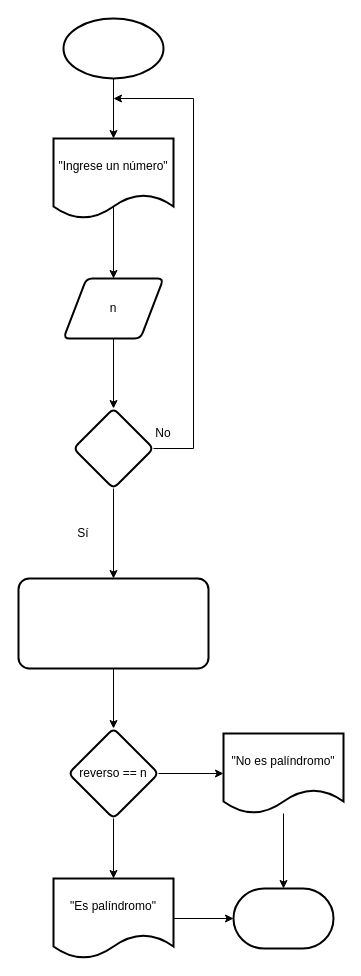
Image size: 361x976. Some labels were removed from this diagram. Each missing label, with the centre of its shape:
"Inicio" goes at (113,48).
"n != 0" goes at (113,448).
"reverso = 0 digito = n % 10 reverso = reverso * 10 + digito" goes at (113,623).
